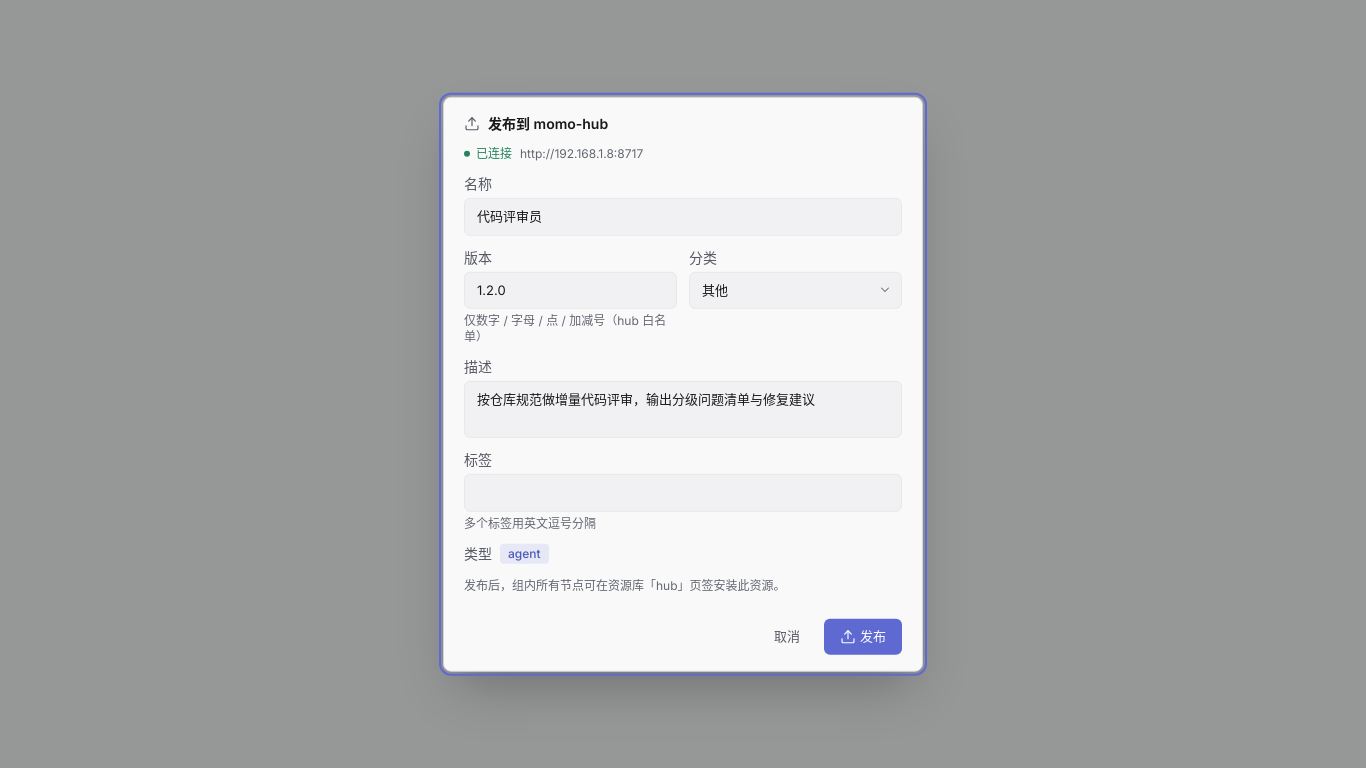
Test: PublishDialog · 版本回写回执（M5.1） › 回写失败 → 成功态仍收束 + 警示行「发布成功但版本回写失败：{原因}」
Click the button "发布" at {"x": 863, "y": 637}, box [824,619,902,654]
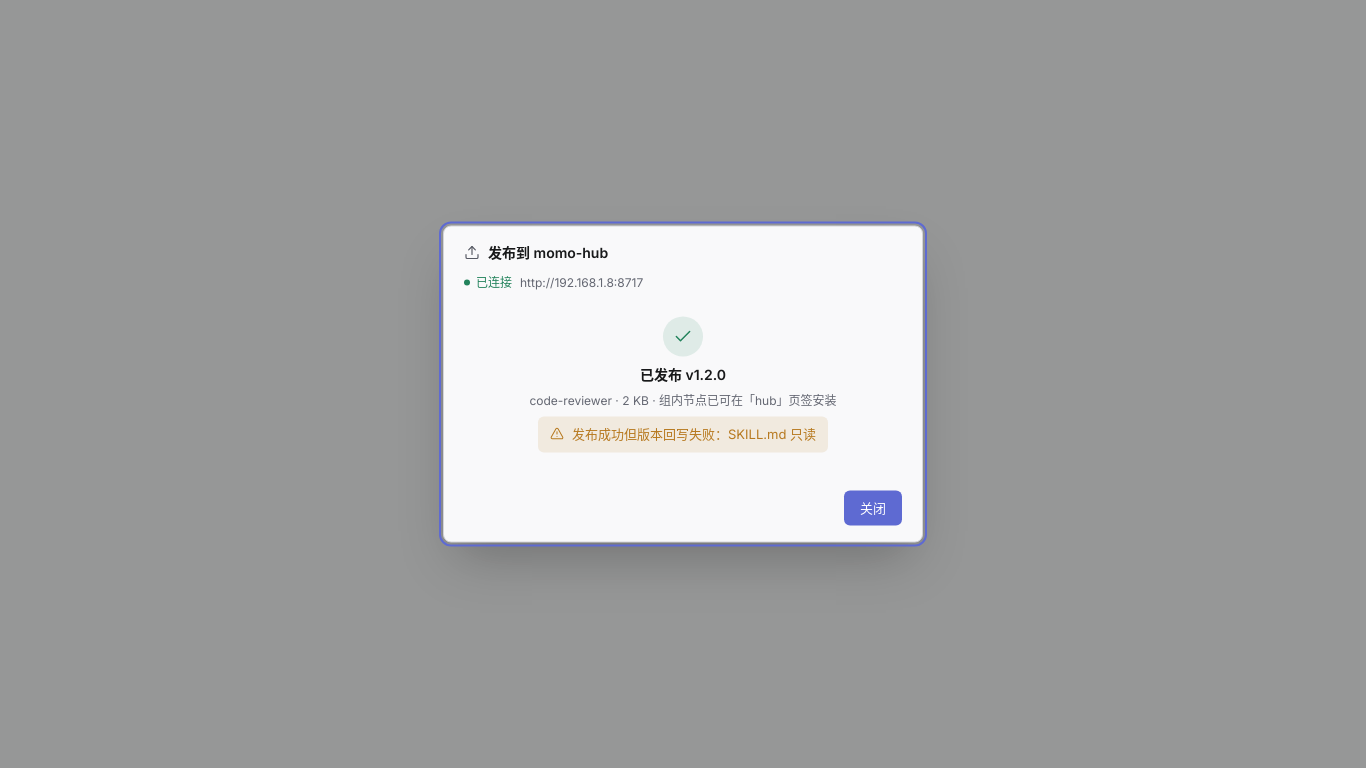
Expected: the text "已发布 v1.2.0" is shown, [640,364,726,384]
Expected: the element with test id "writeback-notice" reads "发布成功但版本回写失败：SKILL.md 只读", [572,426,816,442]
